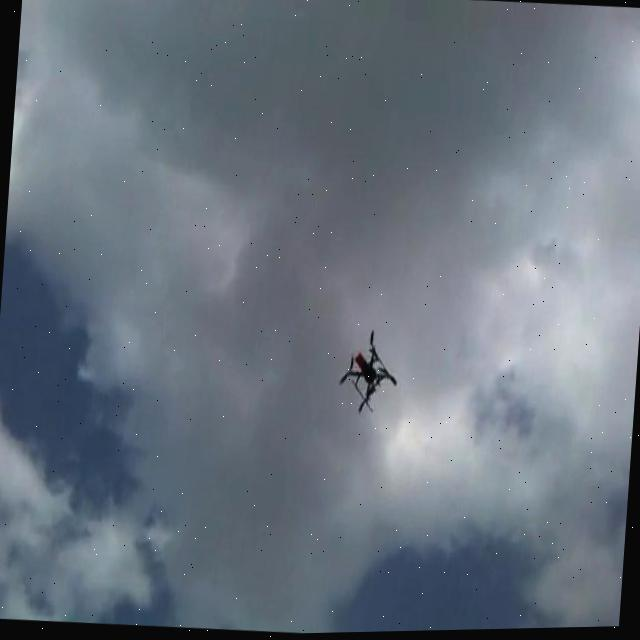drone: (335, 325, 399, 419)
